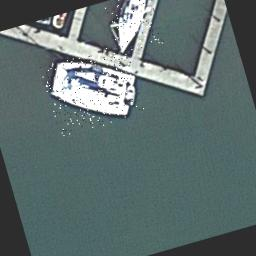boat: (40, 42, 146, 138), (102, 0, 166, 57)
